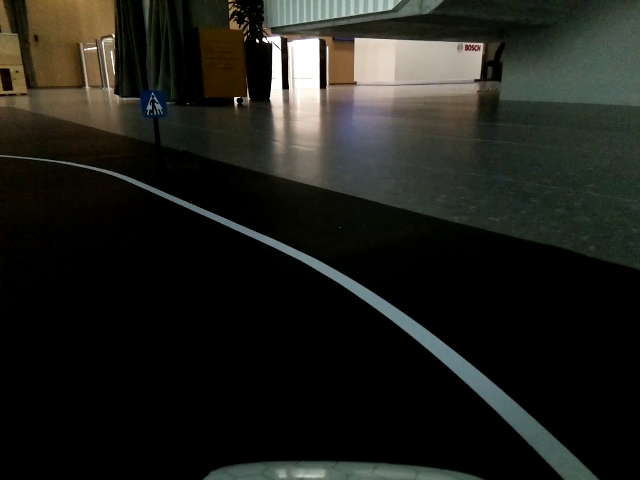pedestrians: (140, 93, 168, 119)
